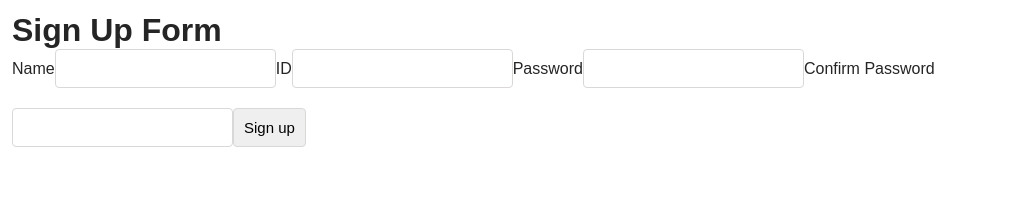
Sign Up Form › will show success message
The image size is (1036, 222).
Type "test name" into the field with test id "name" at [165, 68], box [55,49,276,88]
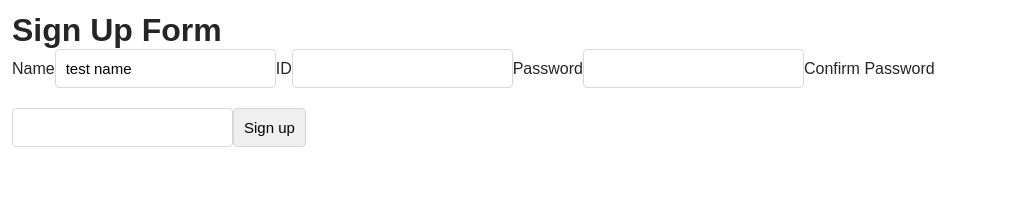
Type "test id" into the field with test id "id" at [402, 68], box [292,49,513,88]
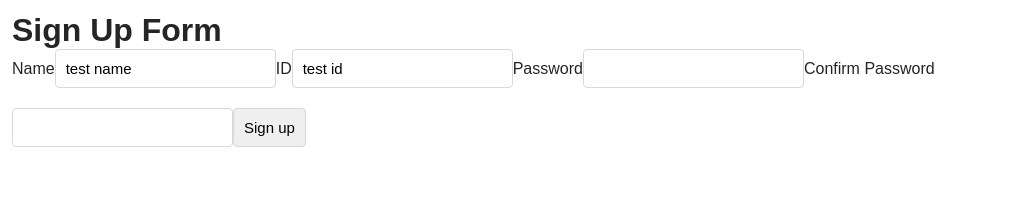
Type "abc" into the password field with test id "password" at [693, 68], box [583,49,804,88]
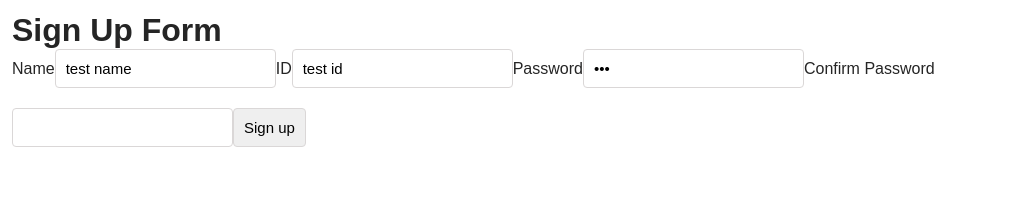
Type "abc" into the password field with test id "confirm-password" at [122, 128], box [12,108,233,147]
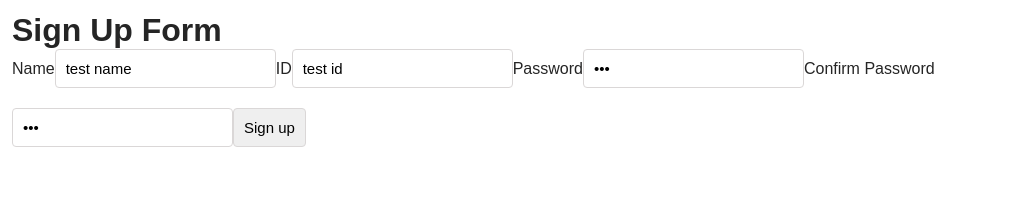
Click the button with test id "signup" at [269, 128], box [233,108,306,147]
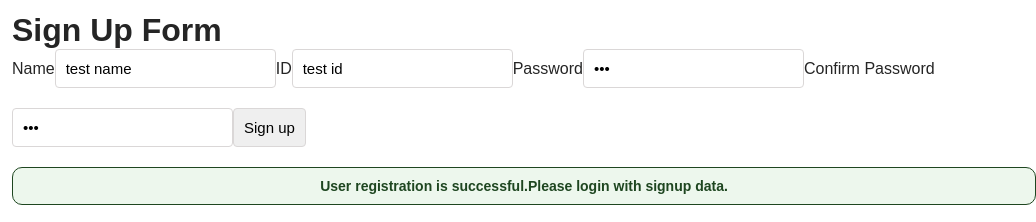
Expected: the heading "User registration is successful.Please login with signup data." is shown, [12,167,1035,205]
